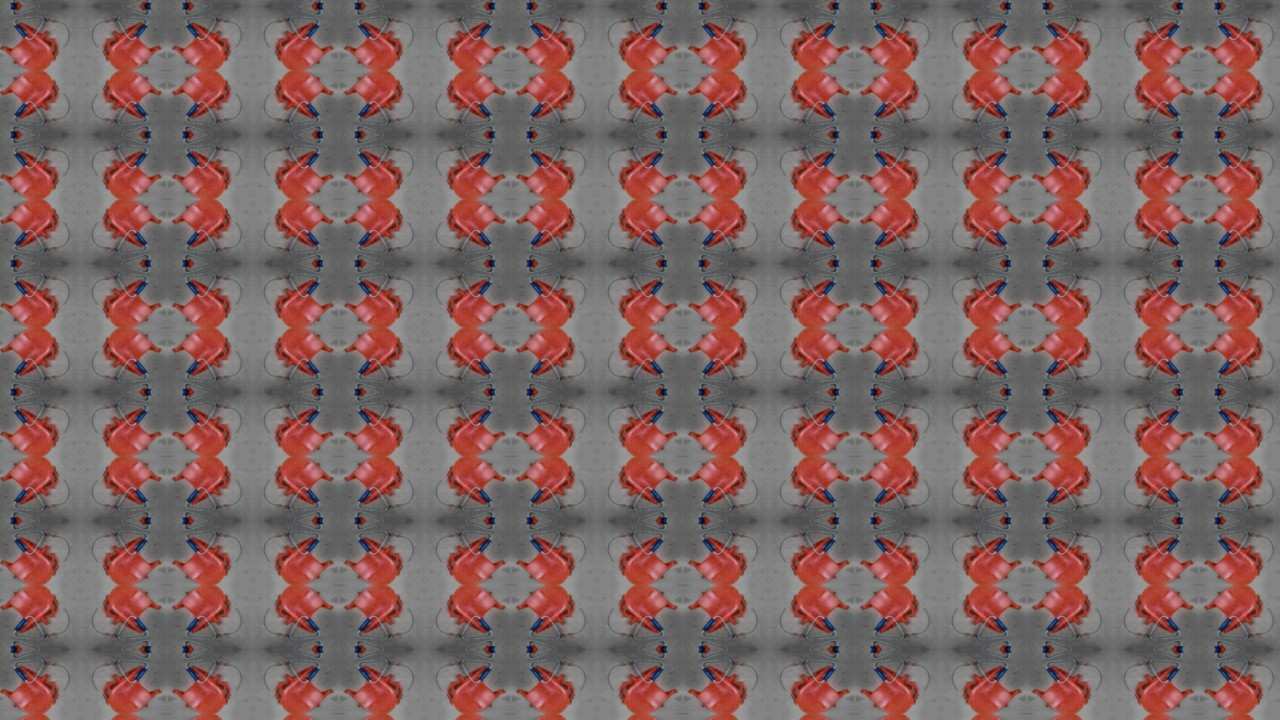chock: (269, 198, 338, 254), (510, 198, 579, 254), (787, 198, 856, 254), (1028, 198, 1097, 254), (269, 272, 338, 328), (510, 272, 579, 328), (787, 272, 856, 328), (1028, 272, 1097, 328), (269, 586, 338, 642), (510, 586, 579, 642), (787, 586, 856, 642), (1028, 586, 1097, 642), (269, 660, 338, 716), (510, 660, 579, 716), (787, 660, 856, 716), (1028, 660, 1097, 716), (97, 198, 165, 254), (165, 198, 233, 254), (338, 198, 406, 254), (442, 198, 510, 254), (615, 198, 683, 254), (683, 198, 751, 254), (856, 198, 924, 254), (960, 198, 1028, 254), (1133, 198, 1201, 254), (1201, 198, 1269, 254), (97, 272, 165, 328), (165, 272, 233, 328), (338, 272, 406, 328), (442, 272, 510, 328), (615, 272, 683, 328), (683, 272, 751, 328), (856, 272, 924, 328), (960, 272, 1028, 328), (1133, 272, 1201, 328), (1201, 272, 1269, 328), (97, 586, 165, 642), (165, 586, 233, 642), (338, 586, 406, 642), (442, 586, 510, 642), (615, 586, 683, 642), (683, 586, 751, 642), (856, 586, 924, 642), (960, 586, 1028, 642), (1133, 586, 1201, 642), (1201, 586, 1269, 642), (97, 660, 165, 716), (165, 660, 233, 716), (338, 660, 406, 716), (442, 660, 510, 716), (615, 660, 683, 716), (683, 660, 751, 716), (856, 660, 924, 716), (960, 660, 1028, 716), (1133, 660, 1201, 716), (1201, 660, 1269, 716), (269, 14, 338, 69), (510, 14, 579, 69), (787, 14, 856, 69), (1028, 14, 1097, 69), (269, 69, 338, 124), (510, 69, 579, 124), (787, 69, 856, 124), (1028, 69, 1097, 124), (269, 143, 338, 198), (510, 143, 579, 198), (787, 143, 856, 198), (1028, 143, 1097, 198), (269, 328, 338, 383), (510, 328, 579, 383), (787, 328, 856, 383), (1028, 328, 1097, 383), (269, 402, 338, 457), (510, 402, 579, 457), (787, 402, 856, 457), (1028, 402, 1097, 457), (269, 457, 338, 512), (510, 457, 579, 512), (787, 457, 856, 512), (1028, 457, 1097, 512), (269, 531, 338, 586), (510, 531, 579, 586), (787, 531, 856, 586), (1028, 531, 1097, 586), (97, 14, 165, 69), (165, 14, 233, 69), (338, 14, 406, 69), (442, 14, 510, 69), (615, 14, 683, 69), (683, 14, 751, 69), (856, 14, 924, 69), (960, 14, 1028, 69), (1133, 14, 1201, 69), (1201, 14, 1269, 69), (97, 69, 165, 124), (165, 69, 233, 124), (338, 69, 406, 124), (442, 69, 510, 124), (615, 69, 683, 124), (683, 69, 751, 124), (856, 69, 924, 124), (960, 69, 1028, 124), (1133, 69, 1201, 124), (1201, 69, 1269, 124), (97, 143, 165, 198), (165, 143, 233, 198), (338, 143, 406, 198), (442, 143, 510, 198), (615, 143, 683, 198), (683, 143, 751, 198), (856, 143, 924, 198), (960, 143, 1028, 198), (1133, 143, 1201, 198), (1201, 143, 1269, 198), (97, 328, 165, 383), (165, 328, 233, 383), (338, 328, 406, 383), (442, 328, 510, 383), (615, 328, 683, 383), (683, 328, 751, 383), (856, 328, 924, 383), (960, 328, 1028, 383), (1133, 328, 1201, 383), (1201, 328, 1269, 383), (97, 402, 165, 457), (165, 402, 233, 457), (338, 402, 406, 457), (442, 402, 510, 457), (615, 402, 683, 457), (683, 402, 751, 457), (856, 402, 924, 457), (960, 402, 1028, 457), (1133, 402, 1201, 457), (1201, 402, 1269, 457), (97, 457, 165, 512), (165, 457, 233, 512), (338, 457, 406, 512), (442, 457, 510, 512), (615, 457, 683, 512), (683, 457, 751, 512), (856, 457, 924, 512), (960, 457, 1028, 512), (1133, 457, 1201, 512), (1201, 457, 1269, 512), (97, 531, 165, 586), (165, 531, 233, 586), (338, 531, 406, 586), (442, 531, 510, 586), (615, 531, 683, 586), (683, 531, 751, 586), (856, 531, 924, 586), (960, 531, 1028, 586), (1133, 531, 1201, 586), (1201, 531, 1269, 586), (0, 198, 61, 254), (0, 272, 61, 328), (0, 586, 61, 642), (0, 660, 61, 716), (0, 14, 61, 69), (0, 69, 61, 124), (0, 143, 61, 198), (0, 328, 61, 383), (0, 402, 61, 457), (0, 457, 61, 512), (0, 531, 61, 586), (269, 716, 338, 720), (510, 716, 579, 720), (787, 716, 856, 720), (1028, 716, 1097, 720), (97, 716, 165, 720), (165, 716, 233, 720), (338, 716, 406, 720), (442, 716, 510, 720), (615, 716, 683, 720), (683, 716, 751, 720), (856, 716, 924, 720), (960, 716, 1028, 720), (1133, 716, 1201, 720), (1201, 716, 1269, 720), (0, 716, 61, 720)
